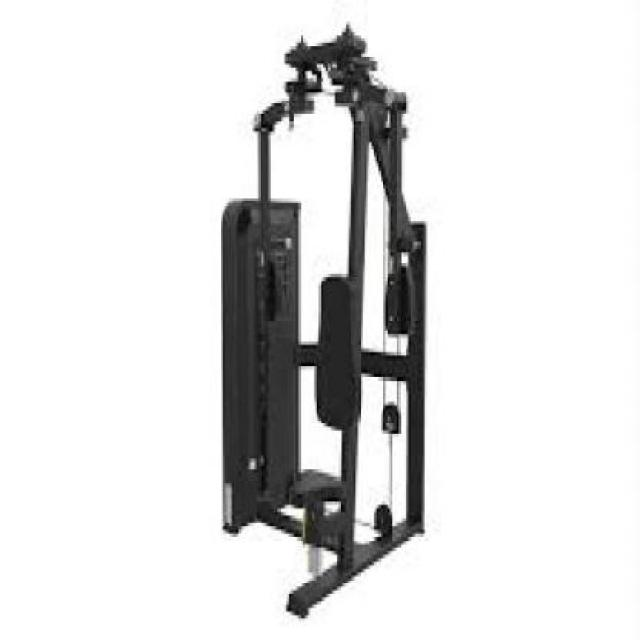chest fly machine: (194, 22, 471, 620)
